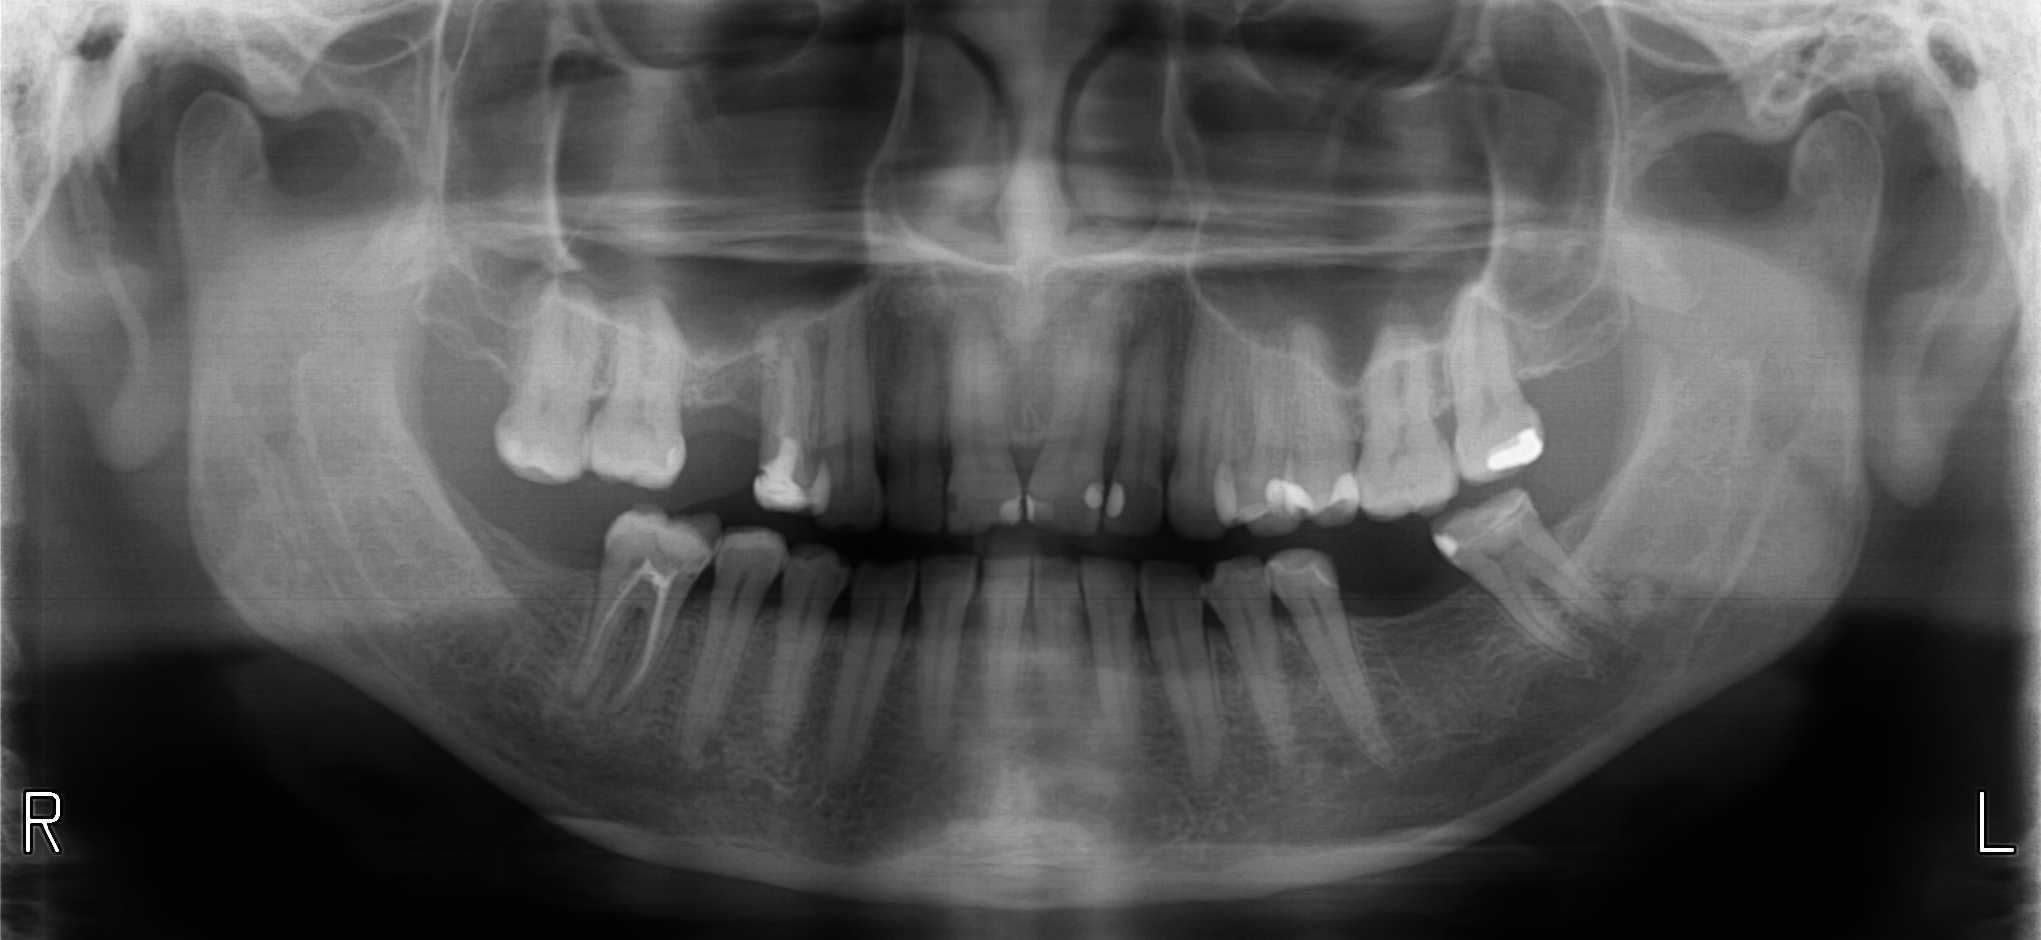cavity: (948, 488, 957, 506)
